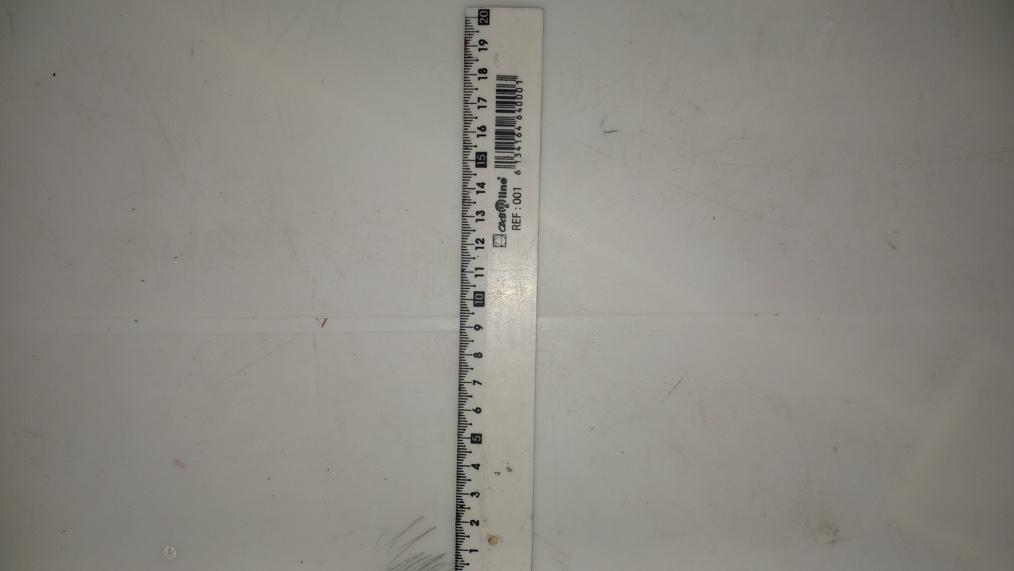Ruler: (453, 6, 548, 571)
